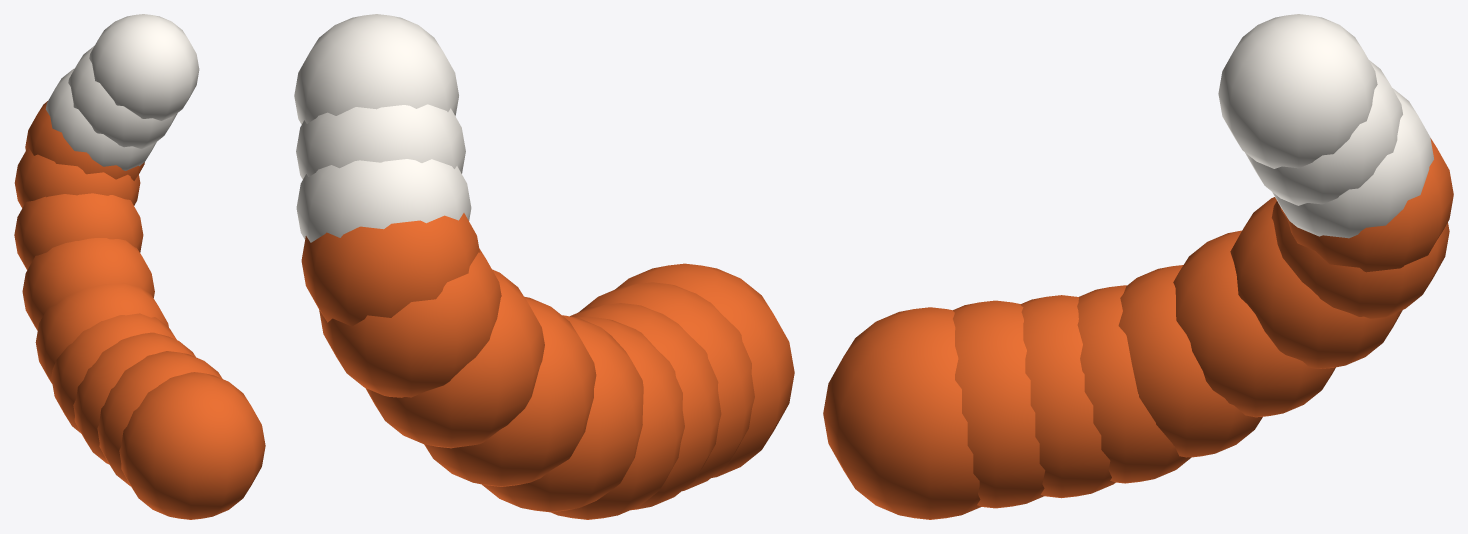
File: tail_fox.glb
3 views of the same model, side by side, from view 1: azimuth 30°, elevation 25°; view 2: azimuth 150°, elevation 25°; view 3: azimuth 270°, elevation 25° (orthographic). The views are drawn at different scales.
Size of the model in its own units: 0.48 by 0.9 by 0.9415.
